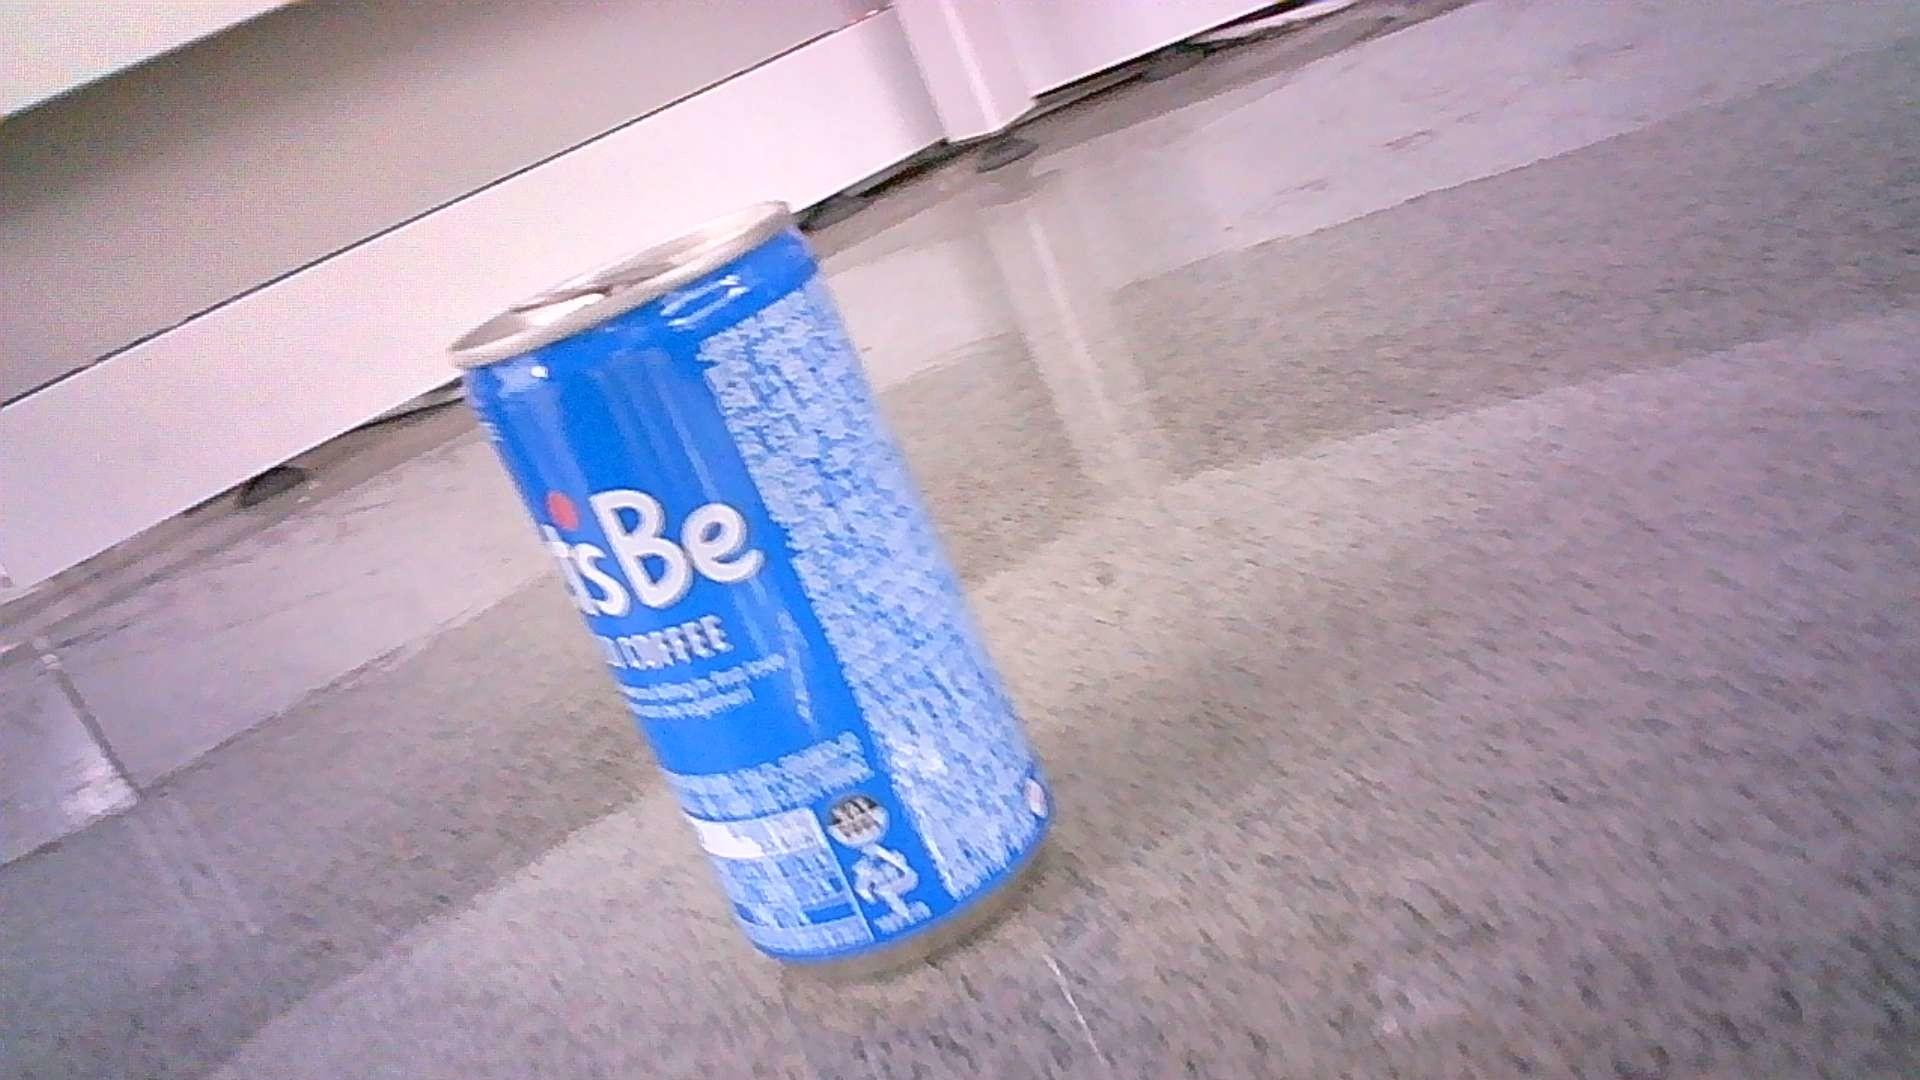letsbe: (450, 198, 1055, 968)
